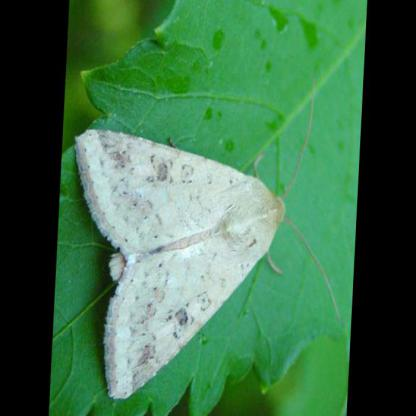helicoverpa: (74, 129, 285, 400)
